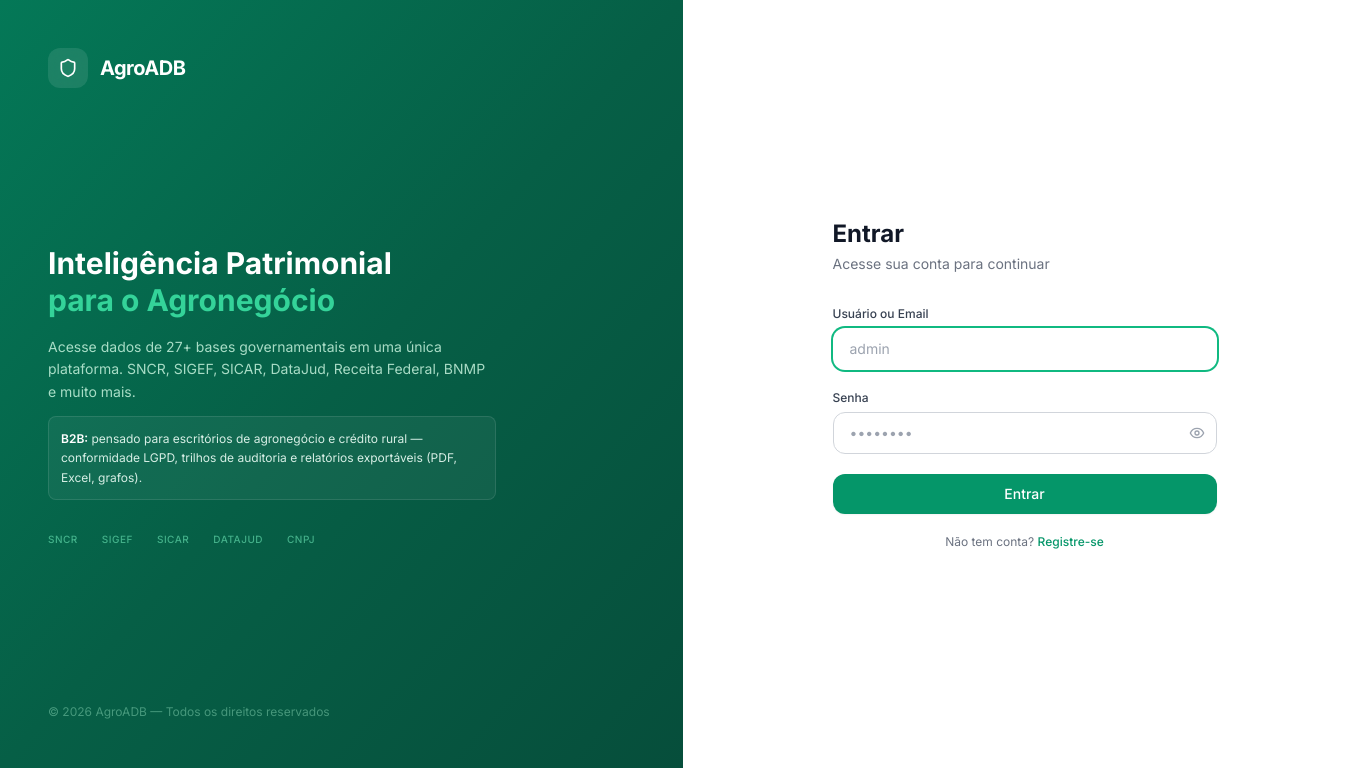
Test: LoginPage Component › should show validation errors for empty fields
Click the button "Entrar" at (1024, 494), box [832,474,1216,514]
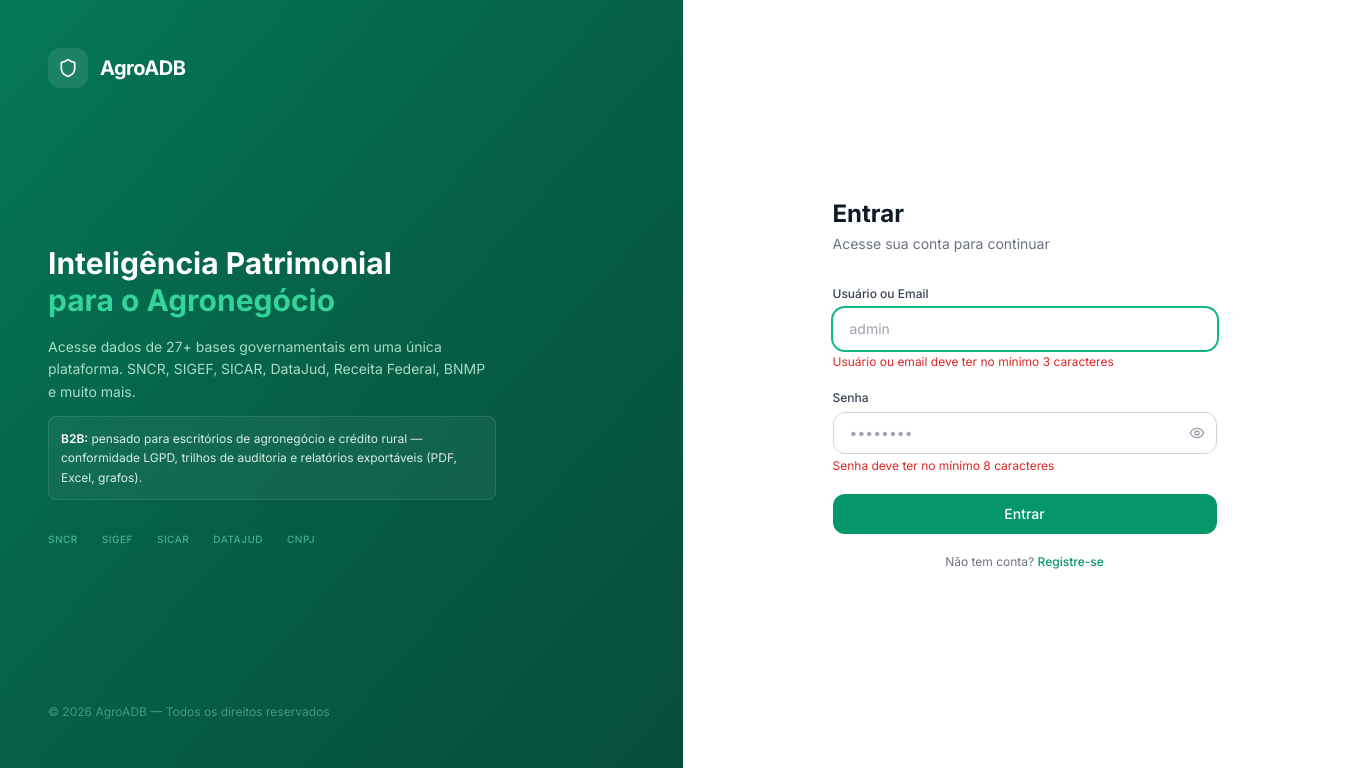
Now the text "Usuário ou email deve ter no mínimo 3 caracteres" is shown, box [832,354,1114,369]
